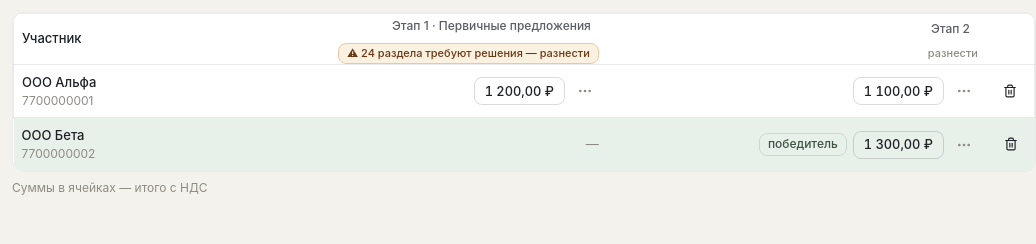
Scenario: OfferGrid: меню отметки победителя › при действующей отметке пункта «Отметить победителем» нет ни в одном меню
Click the 1st button named "Действия с КП" at (585,91), box [571,77,599,105]
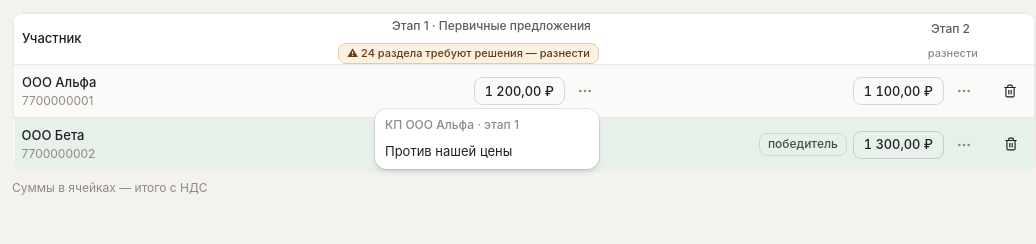
Press Escape
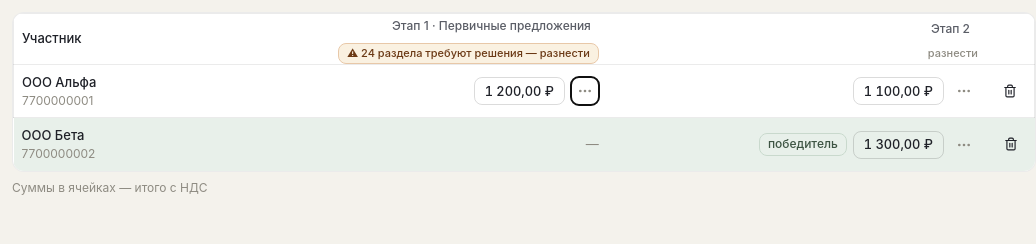
Now the menu item is gone
Click the 2nd button named "Действия с КП" at (964,91), box [950,77,978,105]
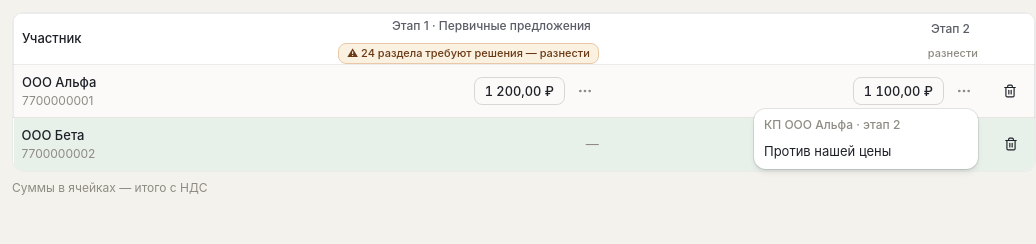
Press Escape
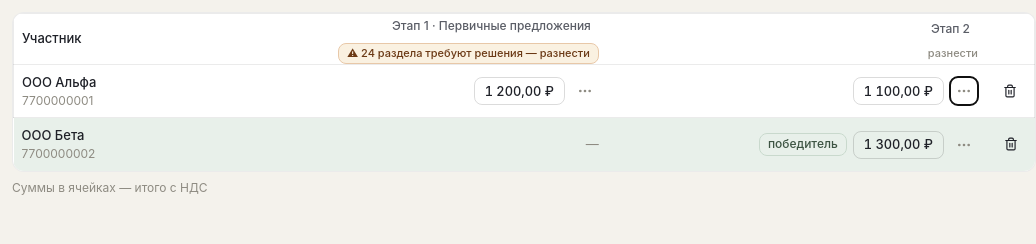
Now the menu item is gone
Click the button named "Действия с КП" at (964,145), box [950,131,978,159]
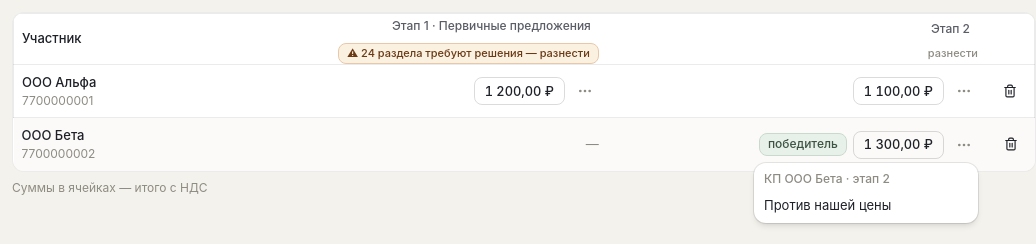
Press Escape
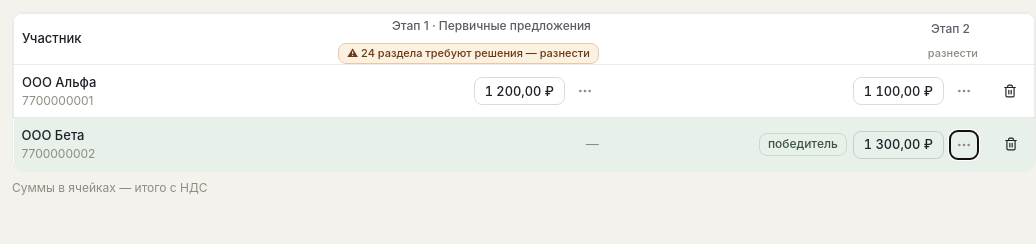
Now the menu item is gone
